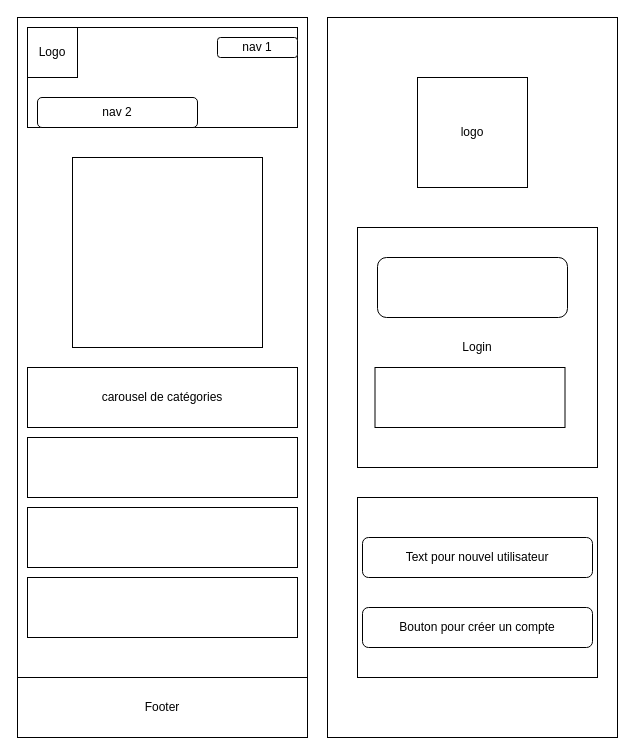
Image size: 635x755. Some labels were removed from this diagram. The shapes that lost their labels are listed below. From the top down, each one's box as (x1, y1, x2, y2) in pixels, then its label:
(26, 26, 298, 128): Header
(72, 156, 262, 348): Première affiche
(376, 256, 568, 318): Input id
(374, 366, 565, 428): input mdp
(356, 496, 598, 678): New user
